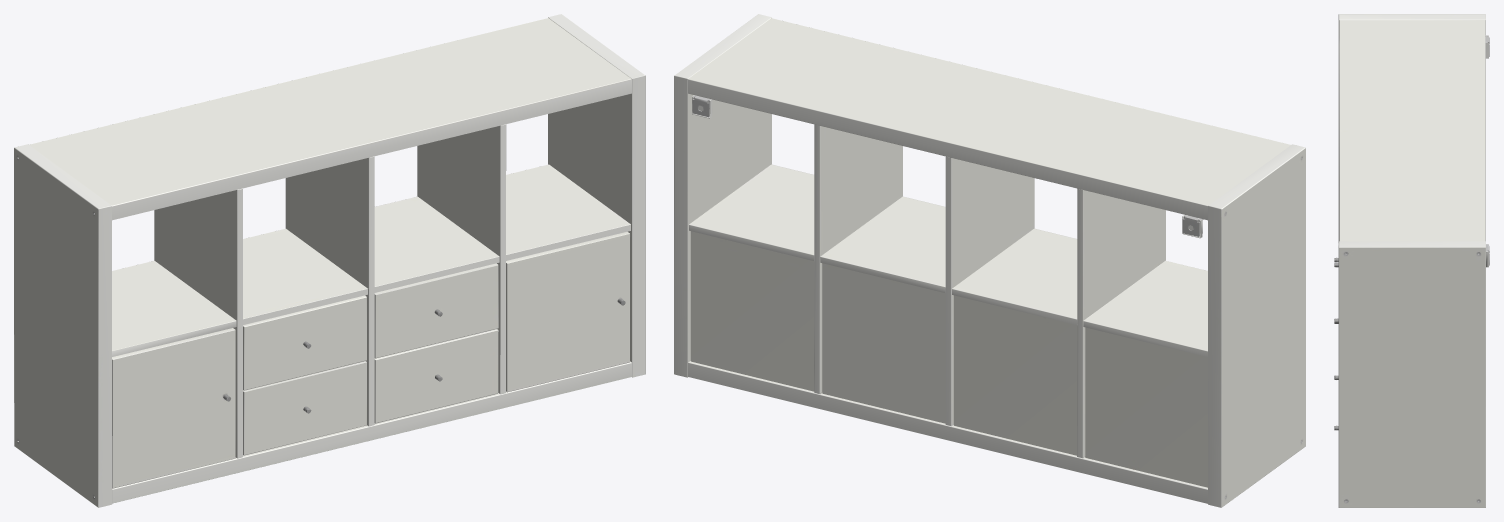
Rendered from table-12.glb.
3 renders of one model, left to right at view 1: azimuth 30°, elevation 25°; view 2: azimuth 150°, elevation 25°; view 3: azimuth 270°, elevation 25°, orthographic. The views are drawn at different scales.
Parts seen in each view (by area): view 1: Mesh_0; view 2: Mesh_0; view 3: Mesh_0.
Part boxes in pixels (box(x1,y1,x2,y2)): Mesh_0: box(14, 14, 645, 507); Mesh_0: box(674, 14, 1305, 507); Mesh_0: box(1334, 14, 1489, 507).
Bounding box in the file's own units: 1.47 × 0.7667 × 0.4127.
Materials: 1 (1 with a texture image).
